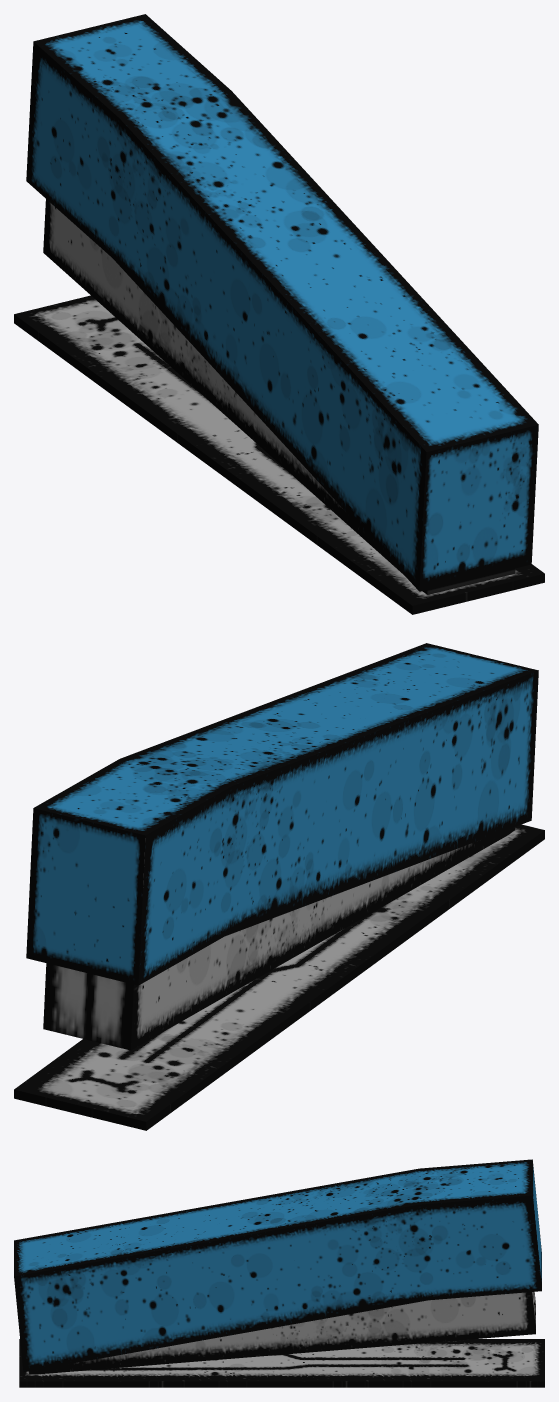
The model's file is stappler.obj.
The picture shows the model from 3 angles, top to bottom: view 1: azimuth 30°, elevation 25°; view 2: azimuth 150°, elevation 25°; view 3: azimuth 270°, elevation 25°; orthographic projection. The views are drawn at different scales.
Visible parts, largest first — view 1: Cube; view 2: Cube; view 3: Cube.
Part boxes in pixels (<box>): Cube: <box>14,14,544,614</box>; Cube: <box>14,643,544,1130</box>; Cube: <box>14,1159,544,1387</box>.
Size of the model in its own units: 0.1804 by 0.3724 by 0.9494.
